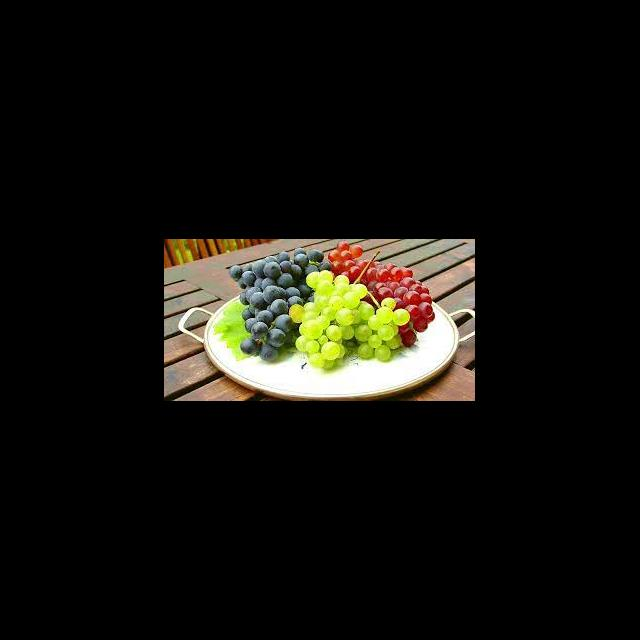grape: (228, 247, 332, 361), (296, 278, 407, 364)
